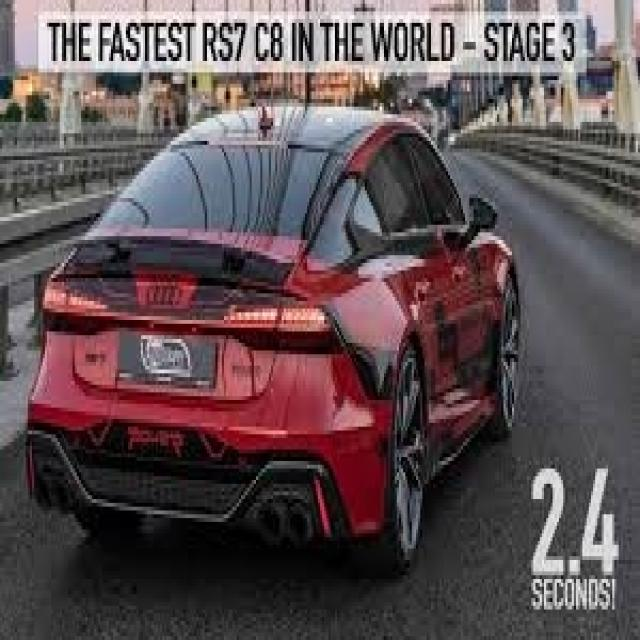maroon: (25, 102, 521, 568)
